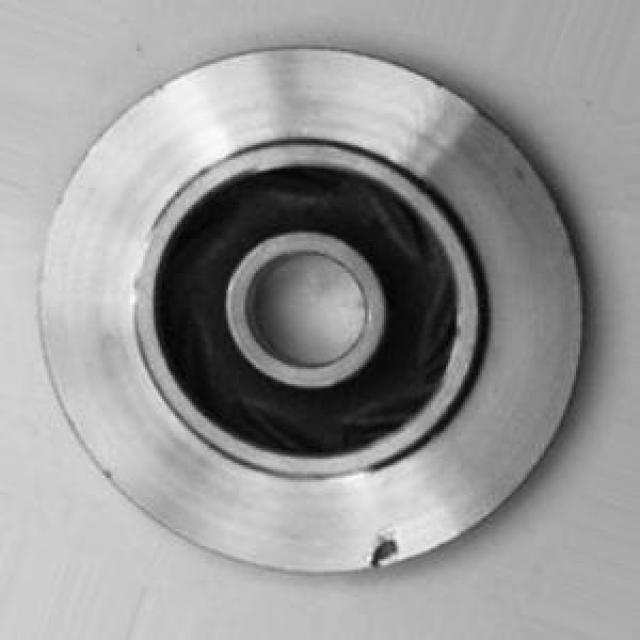Defect: (367, 537, 399, 575)
